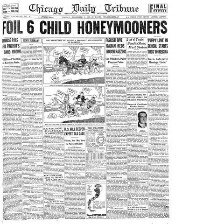news_paper: (0, 0, 172, 224)
